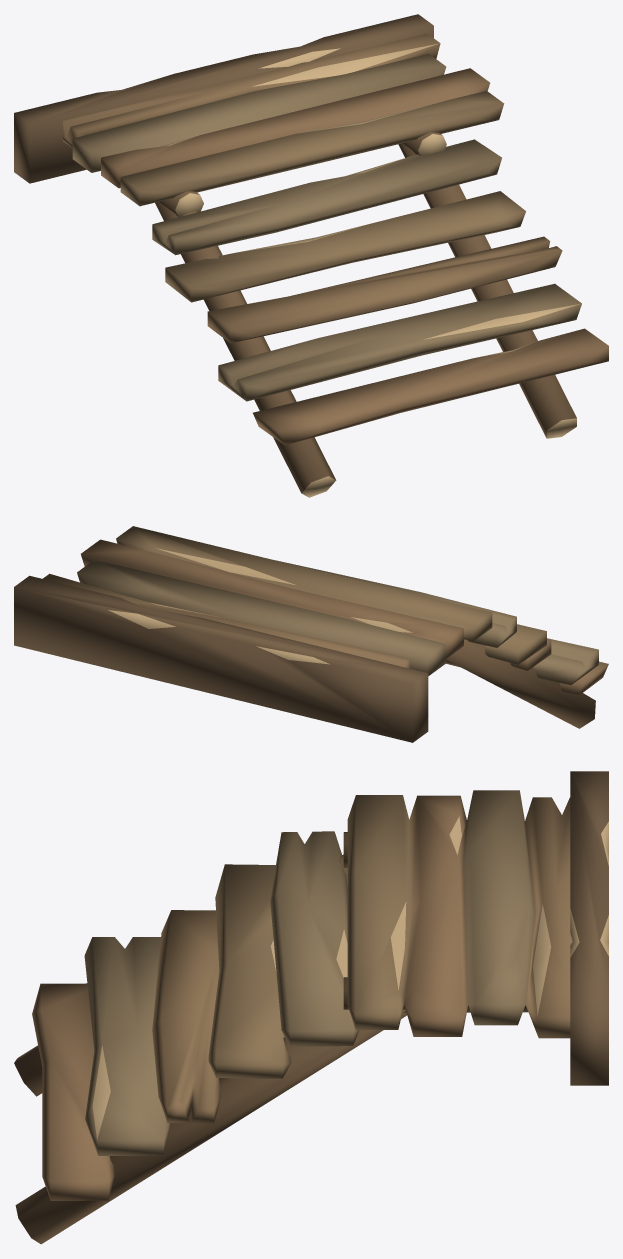
File: rpgpp_ag_stairs_entrance_01.fbx
The picture shows the model from 3 angles, top to bottom: view 1: azimuth 30°, elevation 25°; view 2: azimuth 150°, elevation 25°; view 3: azimuth 270°, elevation 25°; orthographic projection. The views are drawn at different scales.
Parts seen in each view (by area): view 1: rpgpp_ag_stairs_entrance_01; view 2: rpgpp_ag_stairs_entrance_01; view 3: rpgpp_ag_stairs_entrance_01.
Boxes of the visible parts, left/top/right/bottom form: rpgpp_ag_stairs_entrance_01: left=14, top=14, right=608, bottom=497; rpgpp_ag_stairs_entrance_01: left=14, top=526, right=608, bottom=742; rpgpp_ag_stairs_entrance_01: left=14, top=771, right=608, bottom=1244.
Size of the model in its own units: 2.52 by 1.38 by 2.62.
